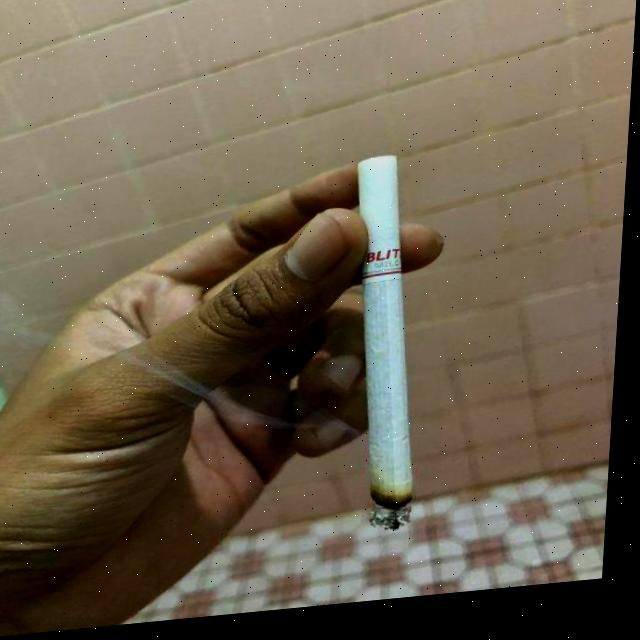cigarette: (342, 161, 436, 541)
